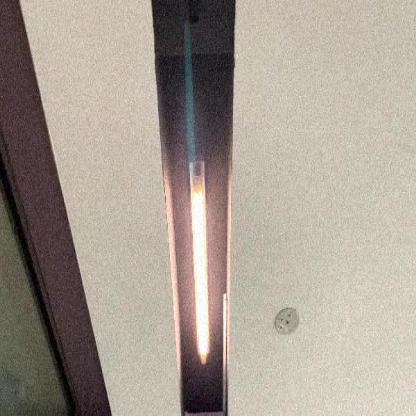light_on: (183, 138, 215, 368)
